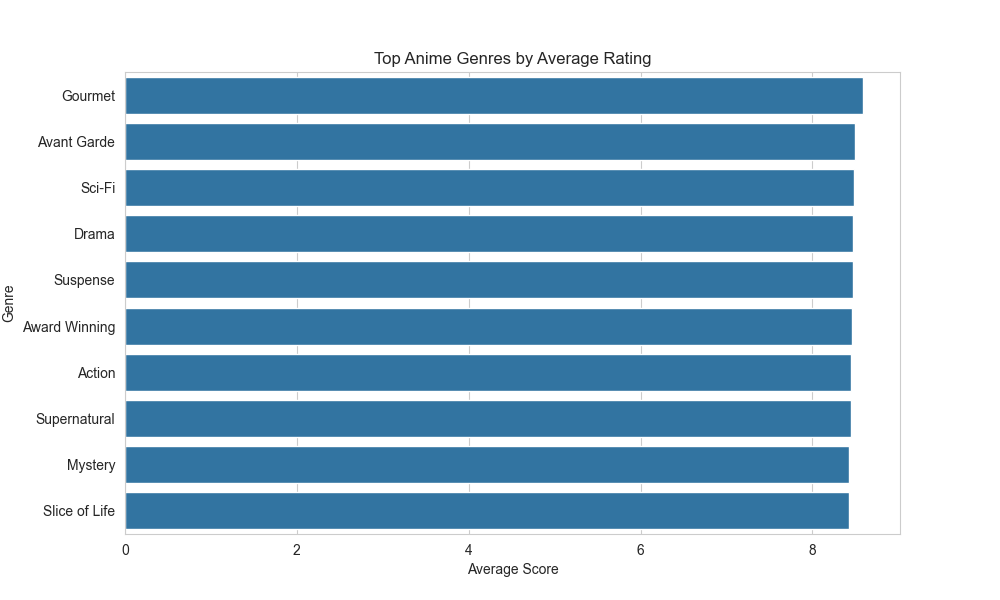

The dashboard page shown, as its layout file describes it:
{"tool":"powerbi","page":{"name":"Top Anime Genres","canvas":[1280,720],"ordinal":1},"visuals":[{"type":"clusteredBarChart","title":"Top Anime Genres by Rating","fields":{"Category":["anime_final_dataset.genres"],"Y":["Avg(anime_final_dataset.score)"]},"box":[0,0,1280,720],"z":0}]}

Visuals, with their boxes on the page's 1280x720 design canvas (x1, y1, x2, y2). These are canvas units, not pixel positions in the 1000x600 screenshot, which may show the page scaled, cropped or inside an application window:
"Top Anime Genres by Rating" clusteredBarChart: 0,0,1280,720
